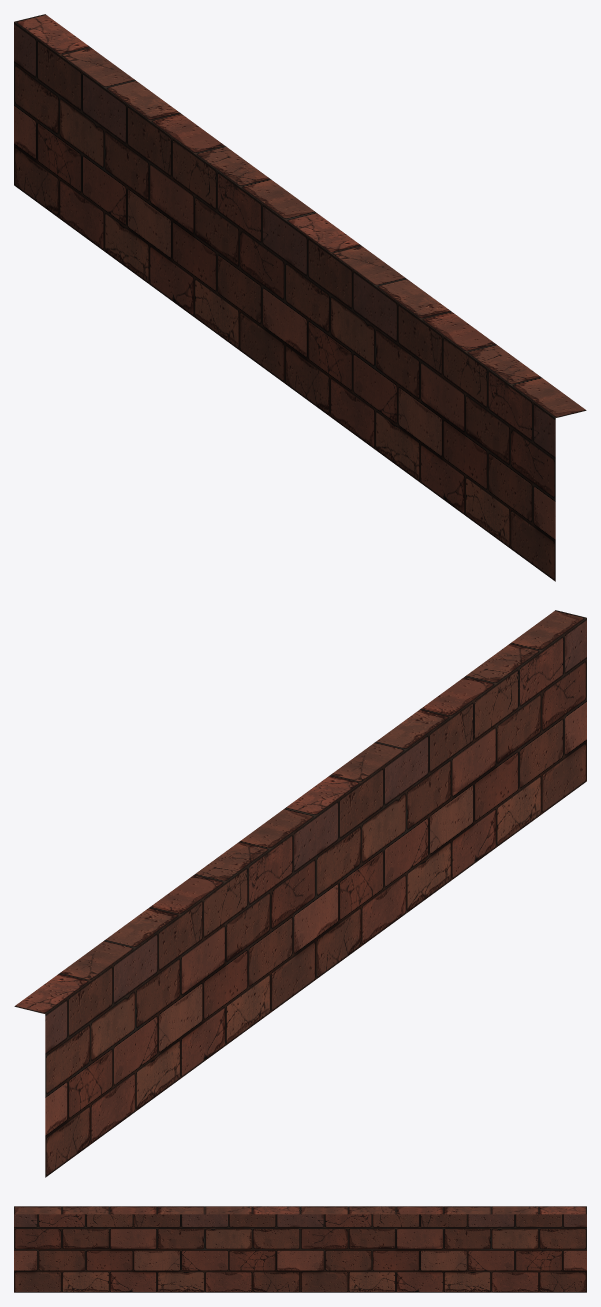
File: foundation02_6m.fbx
3 views of the same model, one above another, from view 1: azimuth 30°, elevation 25°; view 2: azimuth 150°, elevation 25°; view 3: azimuth 270°, elevation 25° (orthographic). The views are drawn at different scales.
Visible parts, largest first — view 1: foundation02_6m; view 2: foundation02_6m; view 3: foundation02_6m.
Part boxes in pixels (<box>): foundation02_6m: <box>14,14,586,581</box>; foundation02_6m: <box>14,610,586,1177</box>; foundation02_6m: <box>14,1206,586,1292</box>.
Size of the model in its own units: 20 by 100 by 600.
